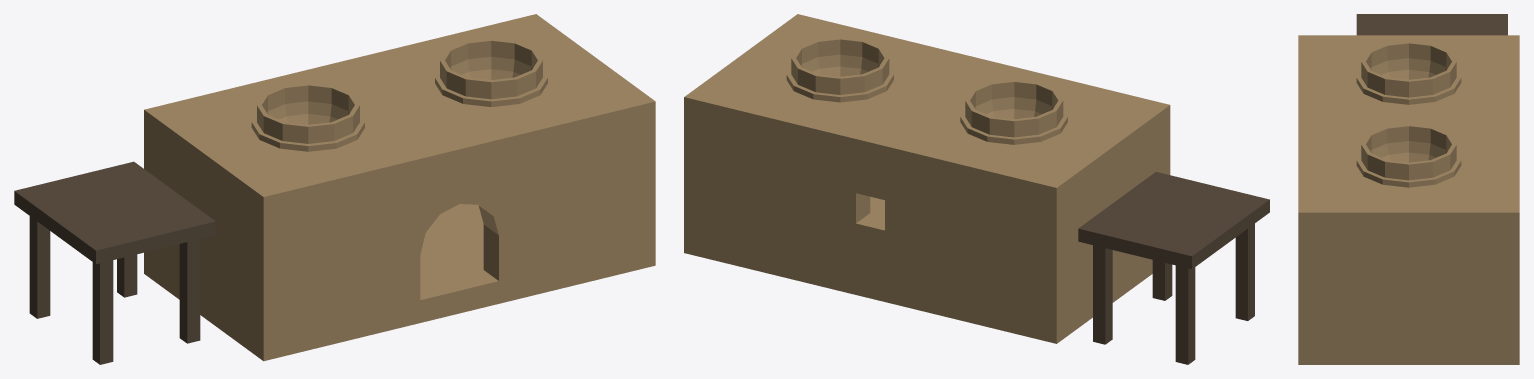
The model's file is stove-B-LOD2.glb.
3 renders of one model, left to right at view 1: azimuth 30°, elevation 25°; view 2: azimuth 150°, elevation 25°; view 3: azimuth 270°, elevation 25°, orthographic. The views are drawn at different scales.
Parts seen in each view (by area): view 1: B_earth, B_timber; view 2: B_earth, B_timber; view 3: B_earth, B_timber.
Boxes of the visible parts, x1,y1,x2,y2 form: B_earth: (144,14,655,361); B_timber: (14,161,215,364); B_earth: (684,14,1170,343); B_timber: (1078,172,1269,364); B_earth: (1298,35,1519,364); B_timber: (1356,14,1507,35).
Bounding box in the file's own units: 2.42 × 0.82 × 0.95.
